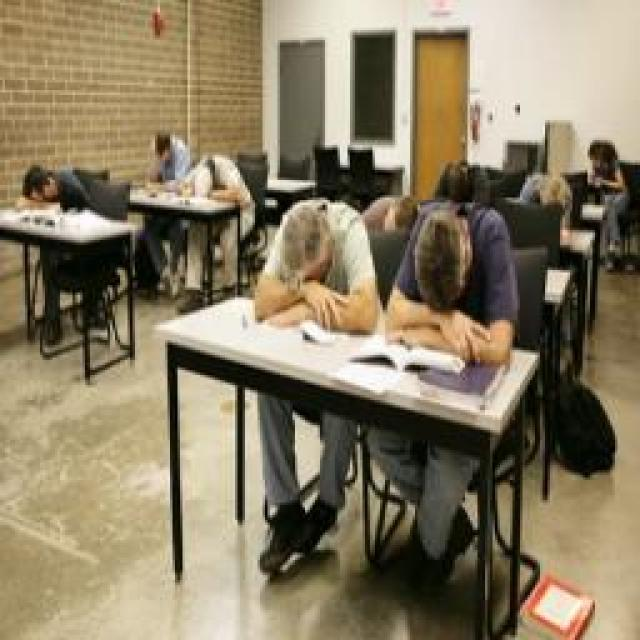sleep: (390, 198, 515, 362), (253, 195, 375, 337), (5, 160, 90, 212), (175, 150, 250, 208)
